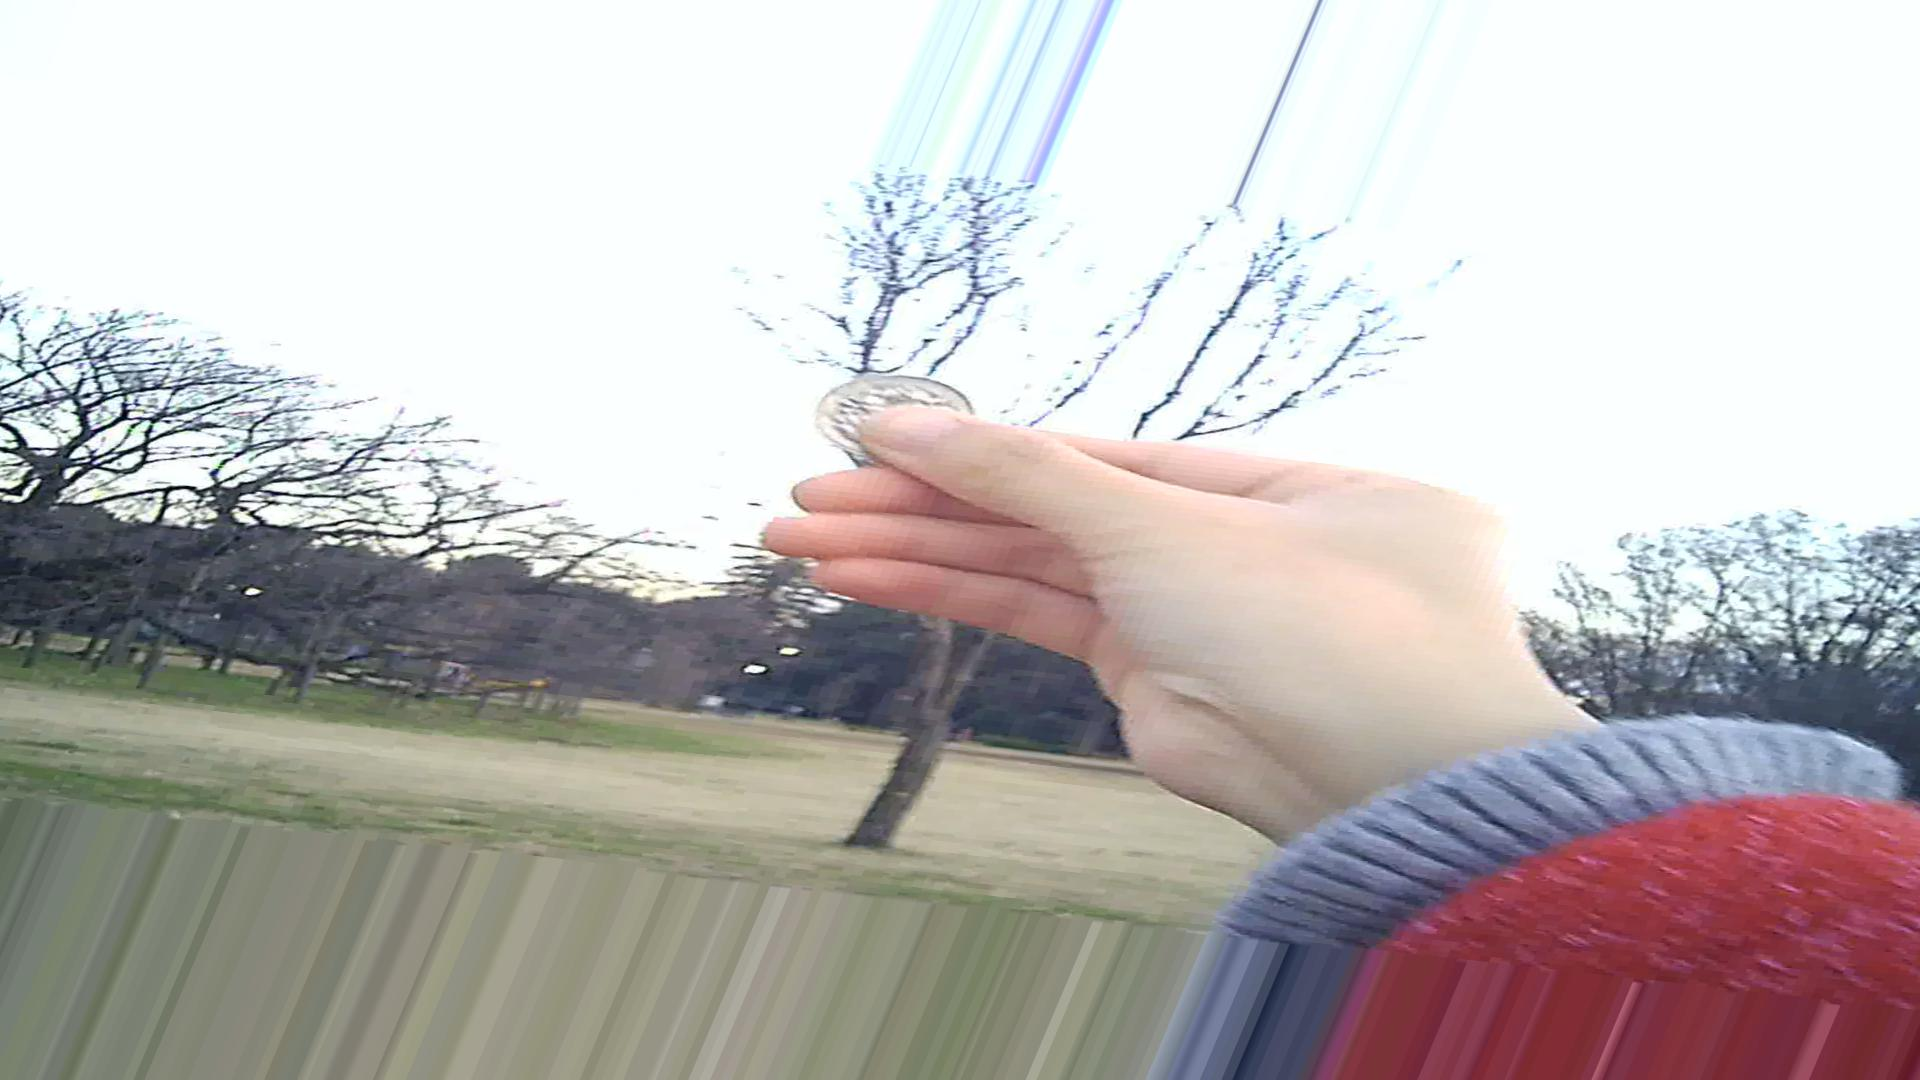100 Yen: (815, 368, 996, 469)
